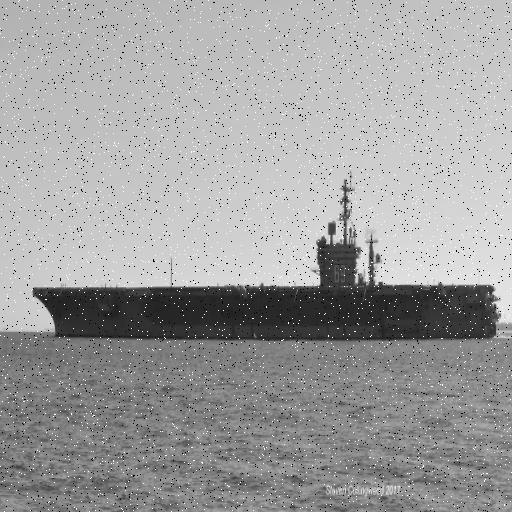Portanaves: (32, 172, 506, 342)
